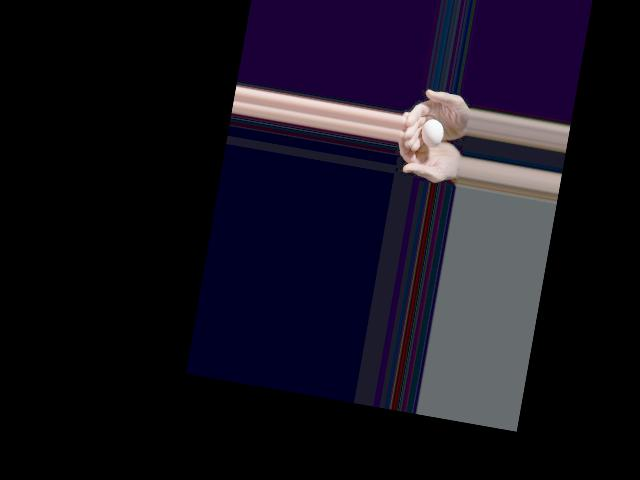egg: (419, 117, 445, 149)
